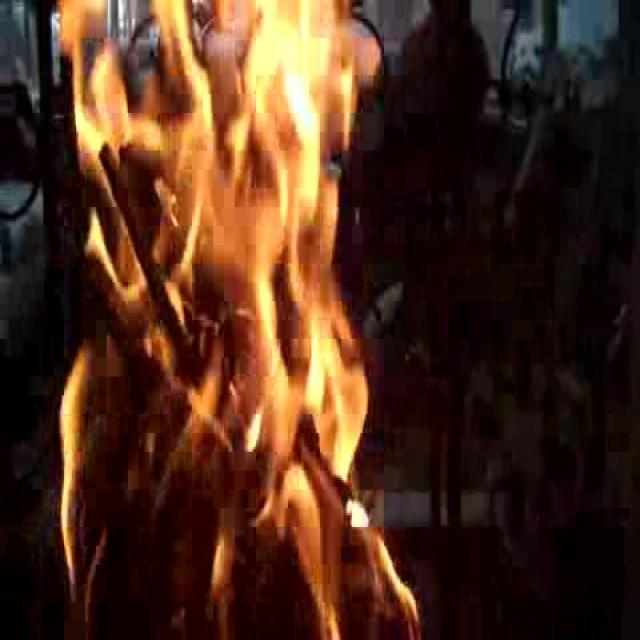Fire: (55, 0, 351, 638)
